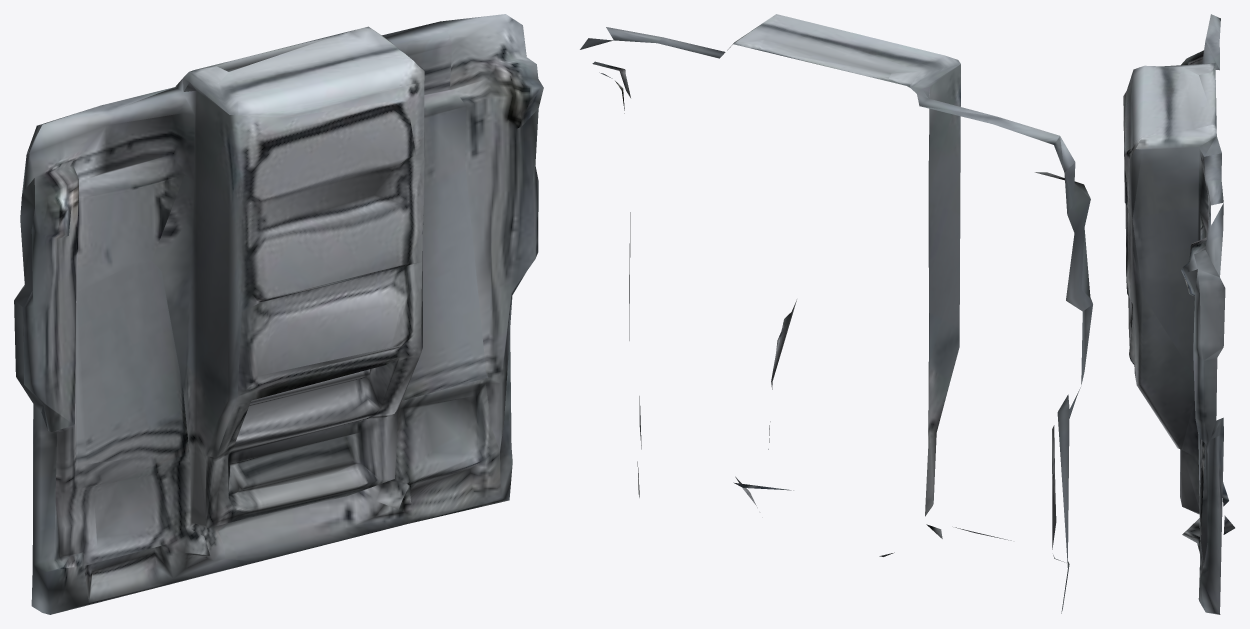
File: hangar_wall_panel_f.glb
3 renders of one model, left to right at view 1: azimuth 30°, elevation 25°; view 2: azimuth 150°, elevation 25°; view 3: azimuth 270°, elevation 25°, orthographic. The views are drawn at different scales.
Parts seen in each view (by area): view 1: hangar_wall_panel_f; view 2: hangar_wall_panel_f; view 3: hangar_wall_panel_f.
Part boxes in pixels (box(x1,y1,x2,y2)): hangar_wall_panel_f: box(14, 14, 543, 614); hangar_wall_panel_f: box(580, 14, 1092, 613); hangar_wall_panel_f: box(1123, 14, 1234, 614).
Bounding box in the file's own units: 0.1036 × 0.0966 × 0.0231.
1 material, 1 textured.
